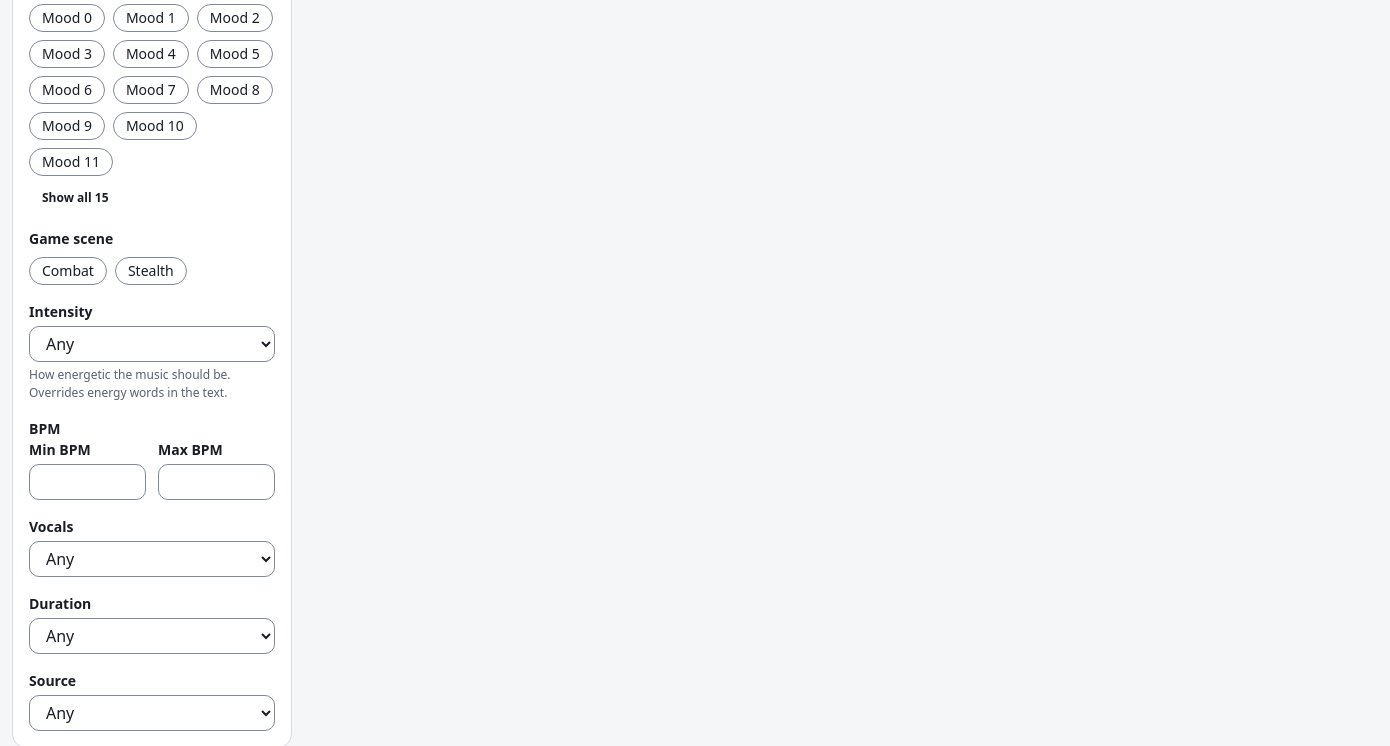
Test: Search page: filters › maps vocals, source, BPM, genres and moods
This screenshot has width=1390, height=746.
(page scrolled)
Select "Instrumental" in the dropdown labelled "Vocals" at (152, 558), box [29,540,275,576]
Select "Local" in the dropdown labelled "Source" at (152, 712), box [29,694,275,730]
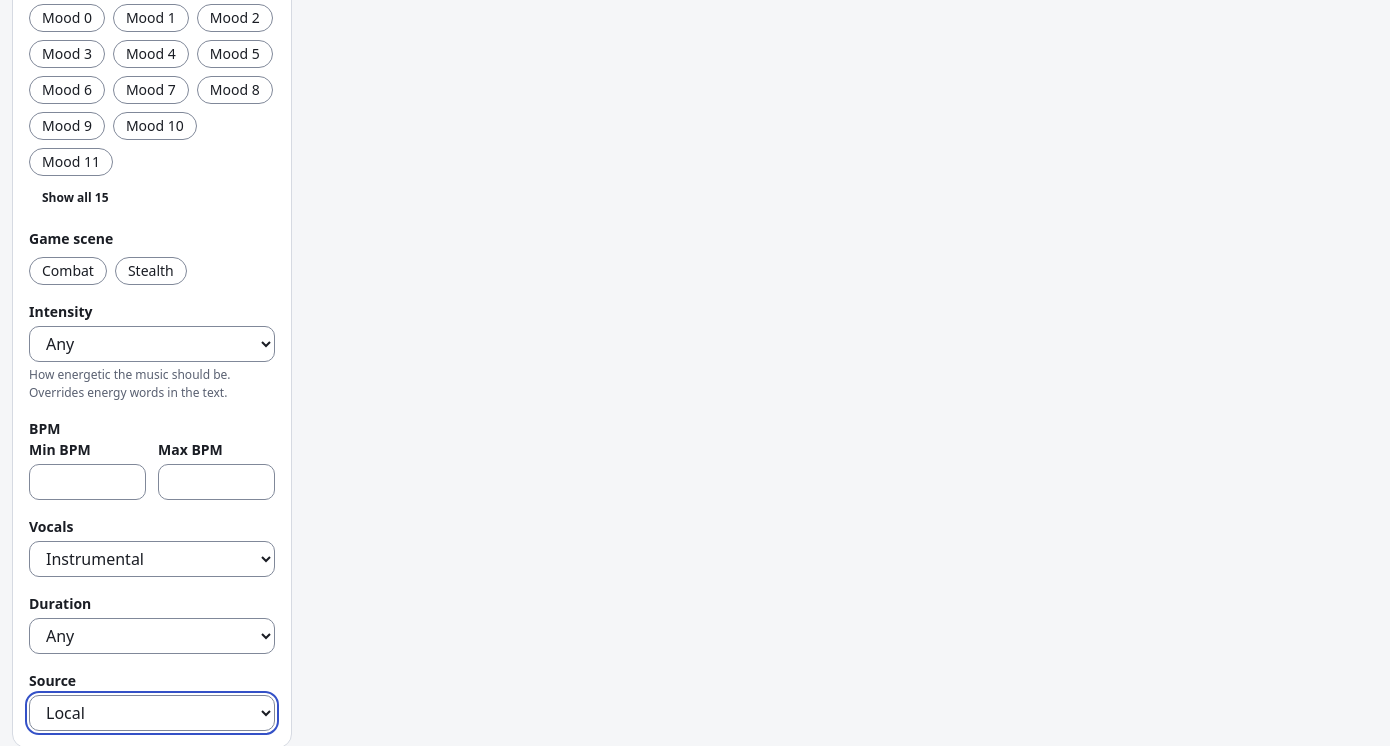
Type "80" into the number field labelled "Min BPM".
click(88, 482); type("80")  # box [29,464,146,500]
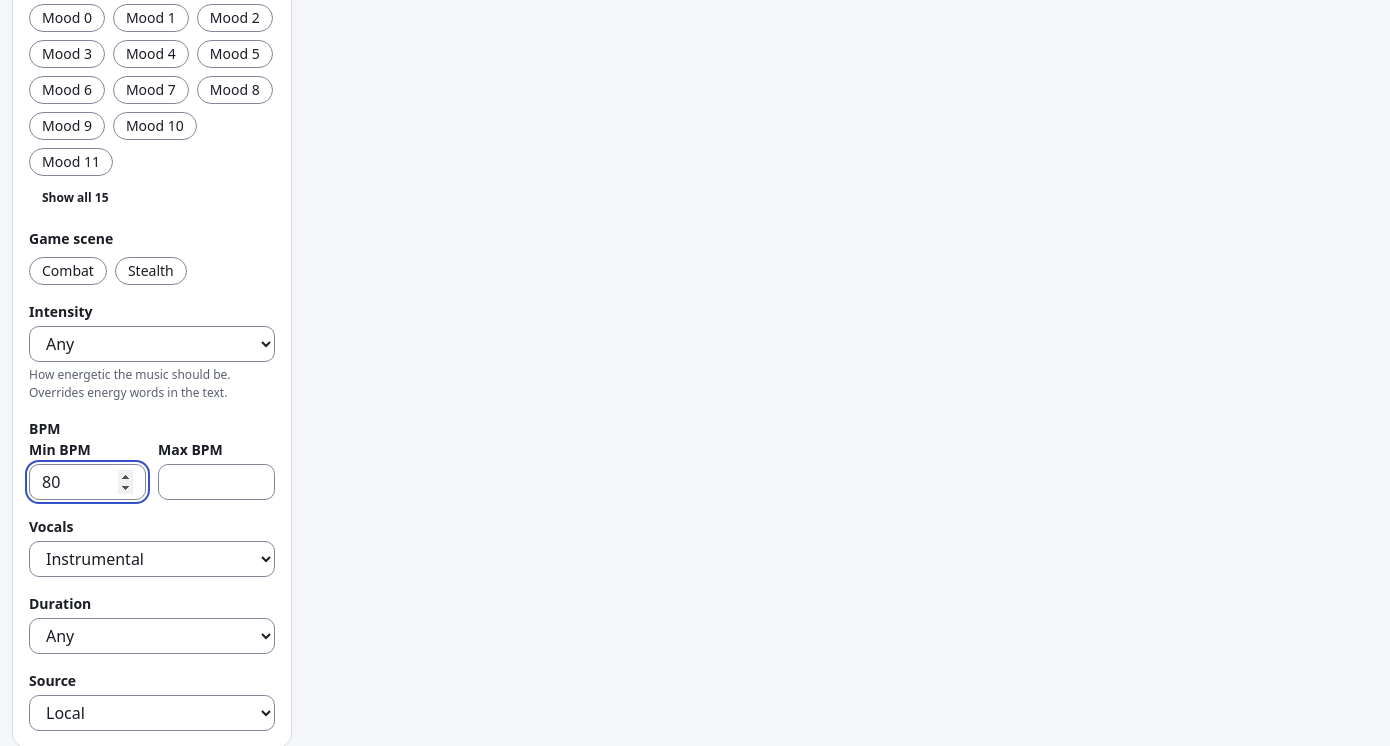
Type "100" into the number field labelled "Max BPM".
click(216, 482); type("100")  # box [158,464,275,500]
(page scrolled)
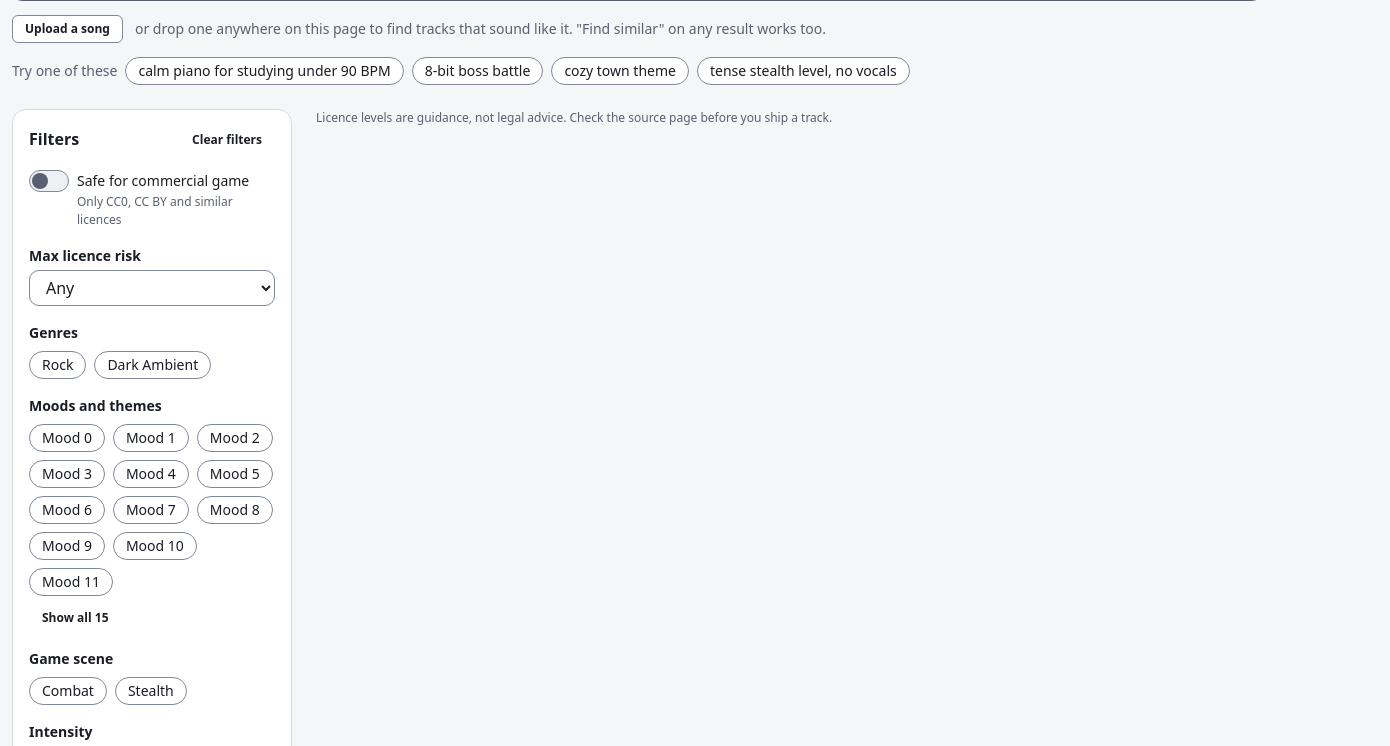
Click the button "Dark Ambient".
click(153, 364)  # box [94,350,211,378]
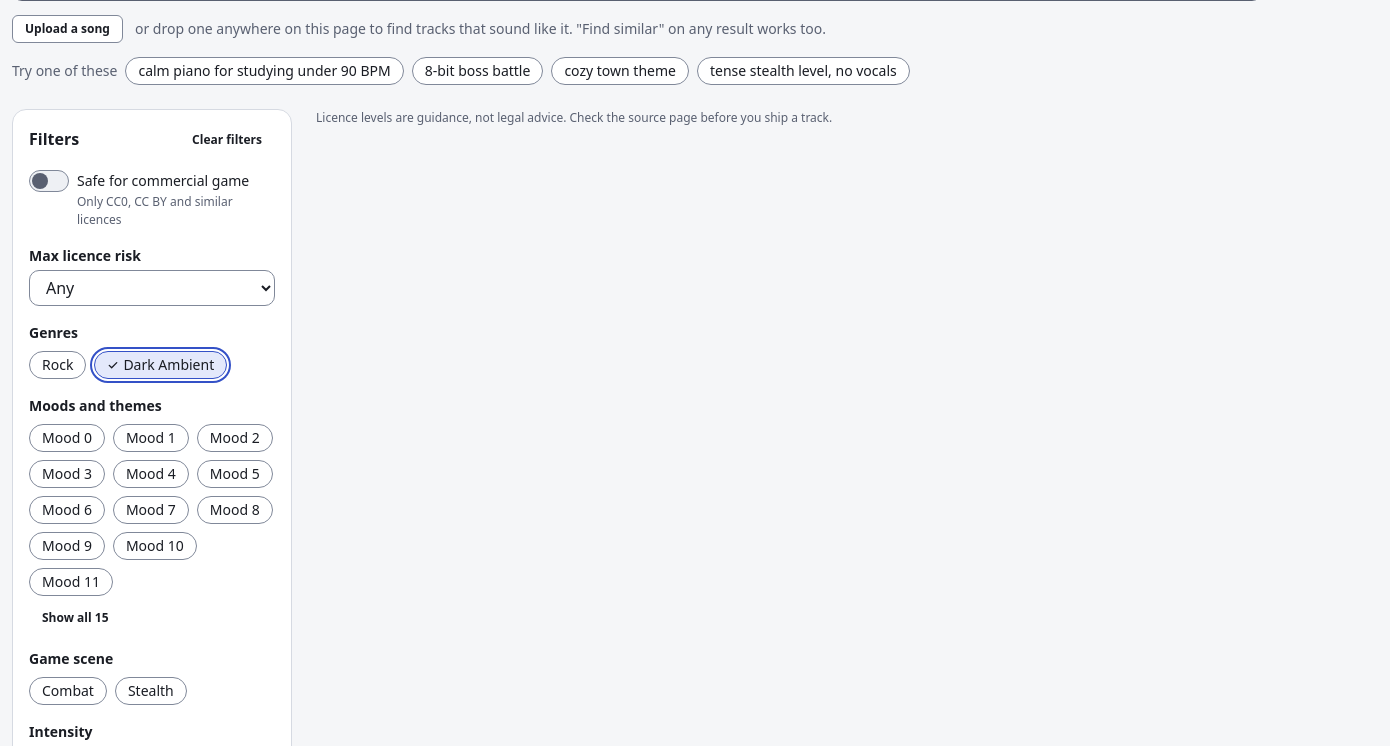
Click the button "Mood 3".
click(67, 474)  # box [29,460,105,488]
(page scrolled)
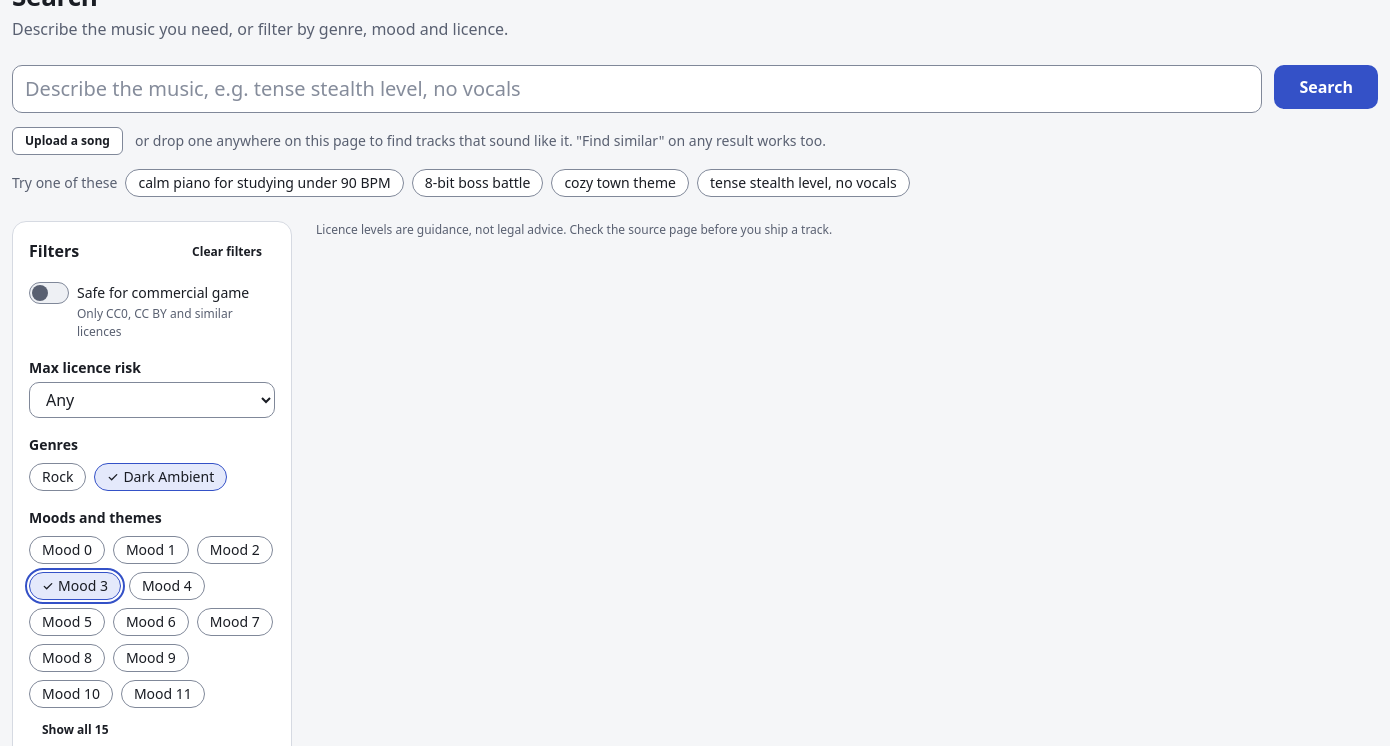
Type "calm" into the field named "Describe the music you need".
click(637, 88); type("calm")  # box [12,64,1262,112]
Click the button "Search".
click(1326, 86)  # box [1274,64,1378,108]
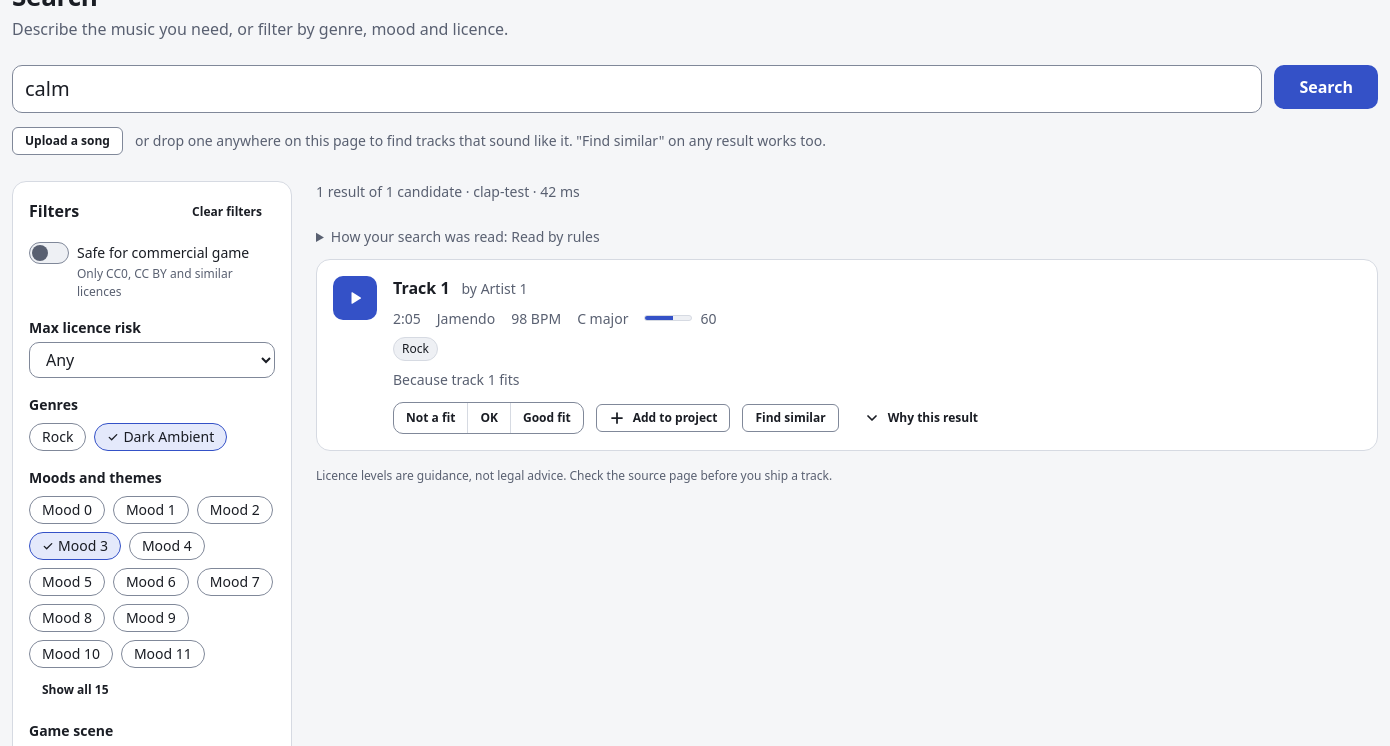
Result: the button "Track 1" is shown at [393,276,450,300]
